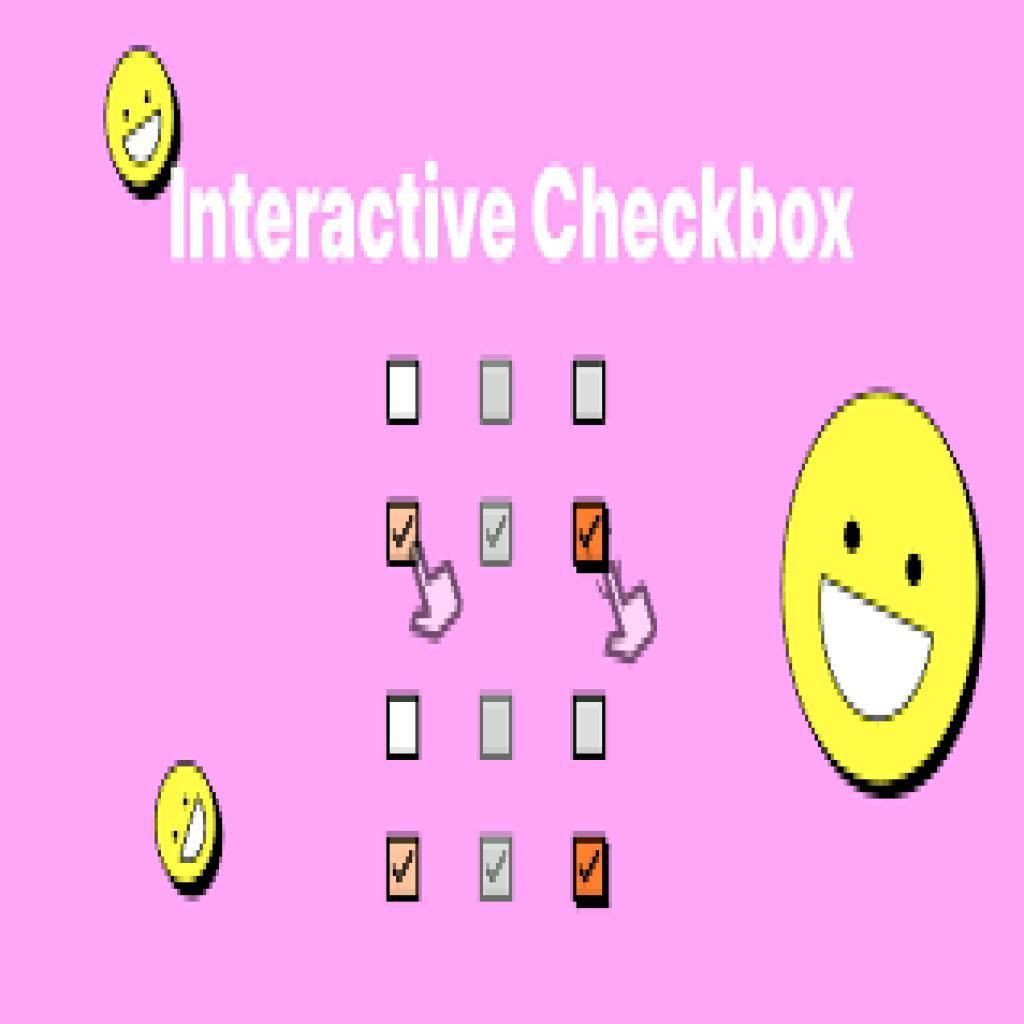checkbox: (575, 837, 609, 910), (480, 839, 515, 903), (572, 504, 607, 567), (388, 837, 420, 902), (388, 365, 422, 425), (387, 504, 420, 565), (480, 501, 512, 563), (574, 697, 606, 759), (572, 363, 603, 424), (483, 700, 513, 762), (576, 696, 605, 758), (390, 700, 421, 756), (483, 364, 511, 423)
